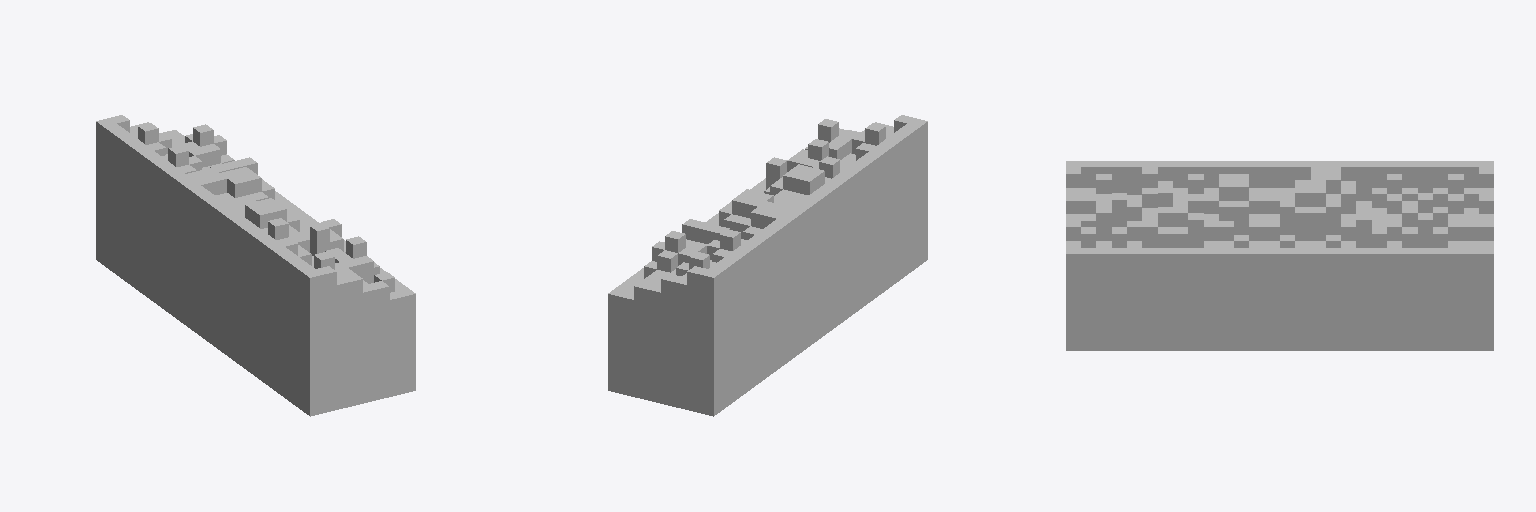
Rendered from Counter Shop.obj.
The picture shows the model from 3 angles: view 1: azimuth 30°, elevation 25°; view 2: azimuth 150°, elevation 25°; view 3: azimuth 270°, elevation 25°; orthographic projection.
Visible parts, largest first — view 1: object 1; view 2: object 1; view 3: object 1.
Boxes of the visible parts, x1=… form: object 1: x1=96, y1=115, x2=415, y2=416; object 1: x1=608, y1=115, x2=927, y2=416; object 1: x1=1066, y1=161, x2=1493, y2=350.
Size of the model in its own units: 0.8 by 1 by 2.8.